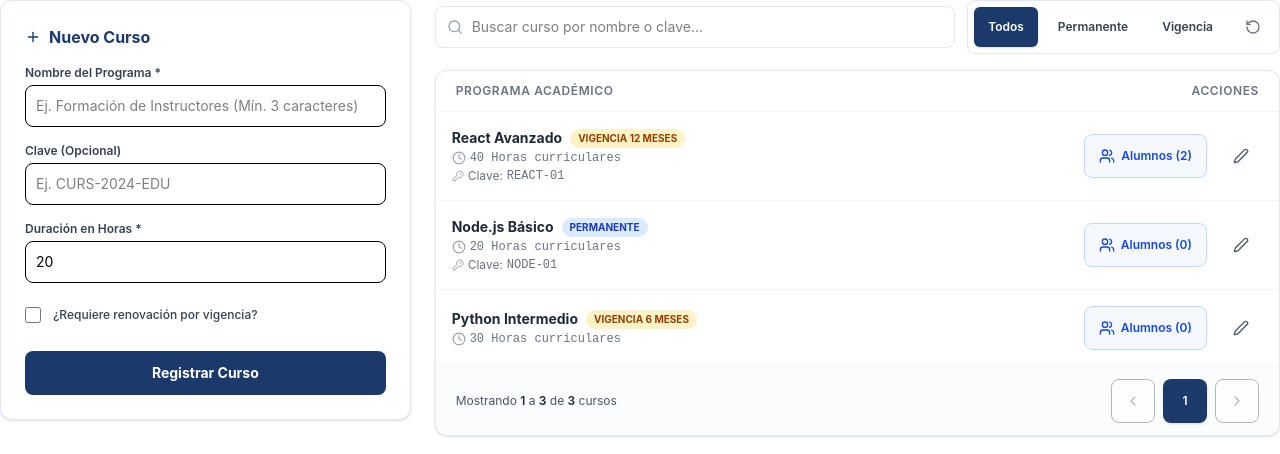
it: ModuloCursos › listado y filtros › filtra cursos por texto de búsqueda (nombre o clave)
In the search field named "buscar cursos": (695, 27) x1=435 y1=6 x2=955 y2=48, type "python"
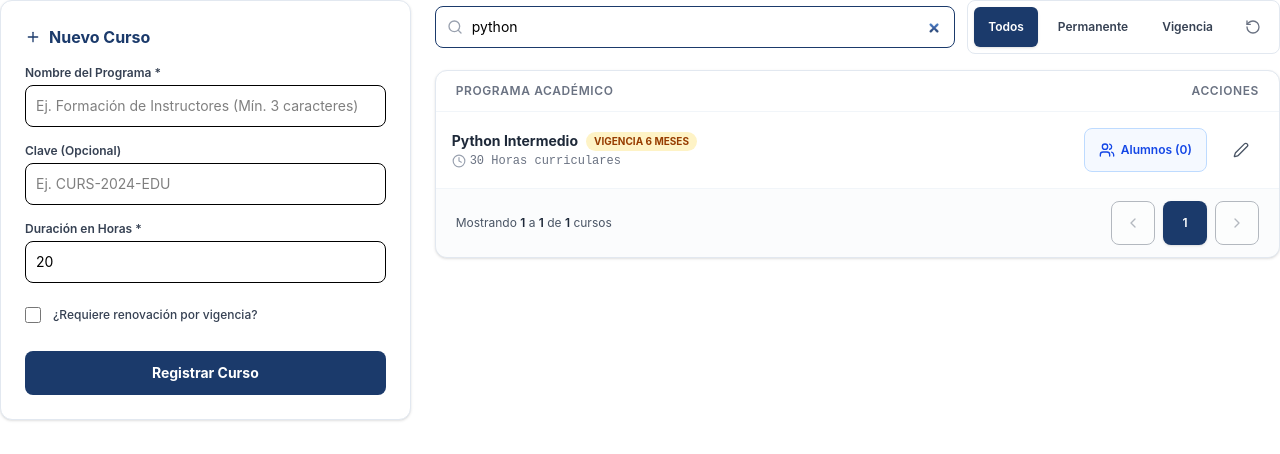
Check: the text "Python Intermedio" is shown, box x1=452 y1=131 x2=578 y2=151
Check: the text "React Avanzado" is gone
